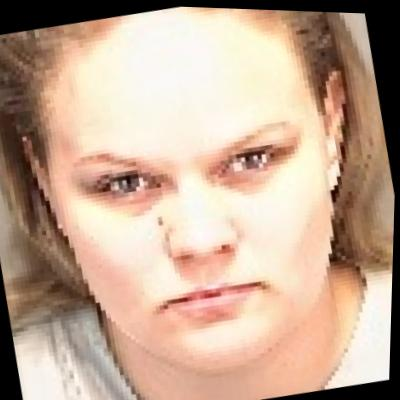angry: (14, 1, 366, 394)
